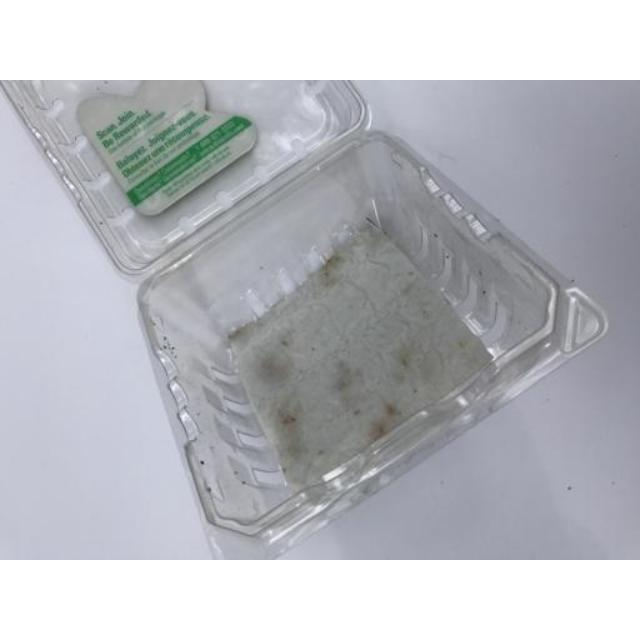plastic: (0, 80, 607, 557)
